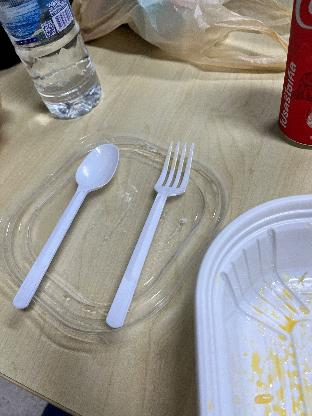Others: (8, 138, 124, 310), (96, 138, 200, 328)
Plastic Bottle: (0, 0, 108, 116)
